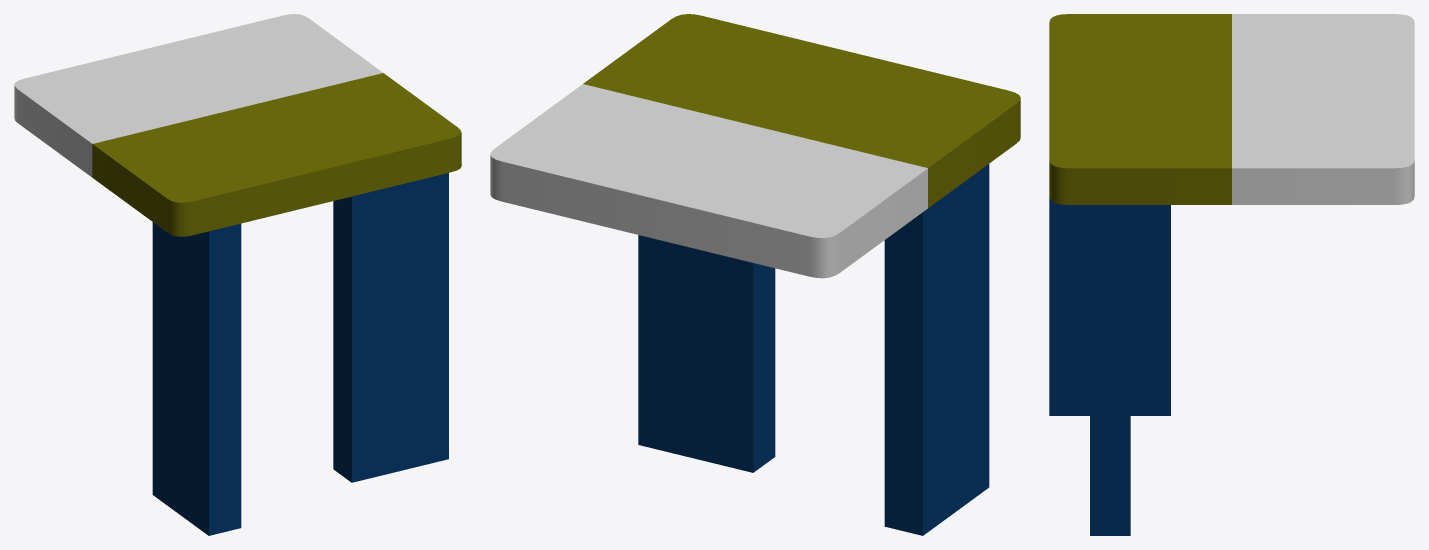
File: Pillar_00_X_F.fbx
3 views of the same model, side by side, from view 1: azimuth 30°, elevation 25°; view 2: azimuth 150°, elevation 25°; view 3: azimuth 270°, elevation 25° (orthographic). The views are drawn at different scales.
Parts seen in each view (by area): view 1: 1, 3, 4, 2; view 2: 3, 1, 4, 2; view 3: 1, 3, 2, 4.
Boxes of the visible parts, x1,y1,x2,y2 form: 1: [238, 73, 461, 482]; 3: [92, 108, 321, 535]; 4: [14, 47, 237, 177]; 2: [154, 14, 382, 108]; 3: [756, 53, 1020, 535]; 1: [583, 14, 854, 472]; 4: [655, 126, 927, 278]; 2: [490, 84, 754, 238]; 1: [1049, 91, 1231, 535]; 3: [1049, 14, 1231, 415]; 2: [1232, 91, 1414, 204]; 4: [1232, 14, 1414, 90].
Size of the model in its own units: 180 by 200 by 180.
